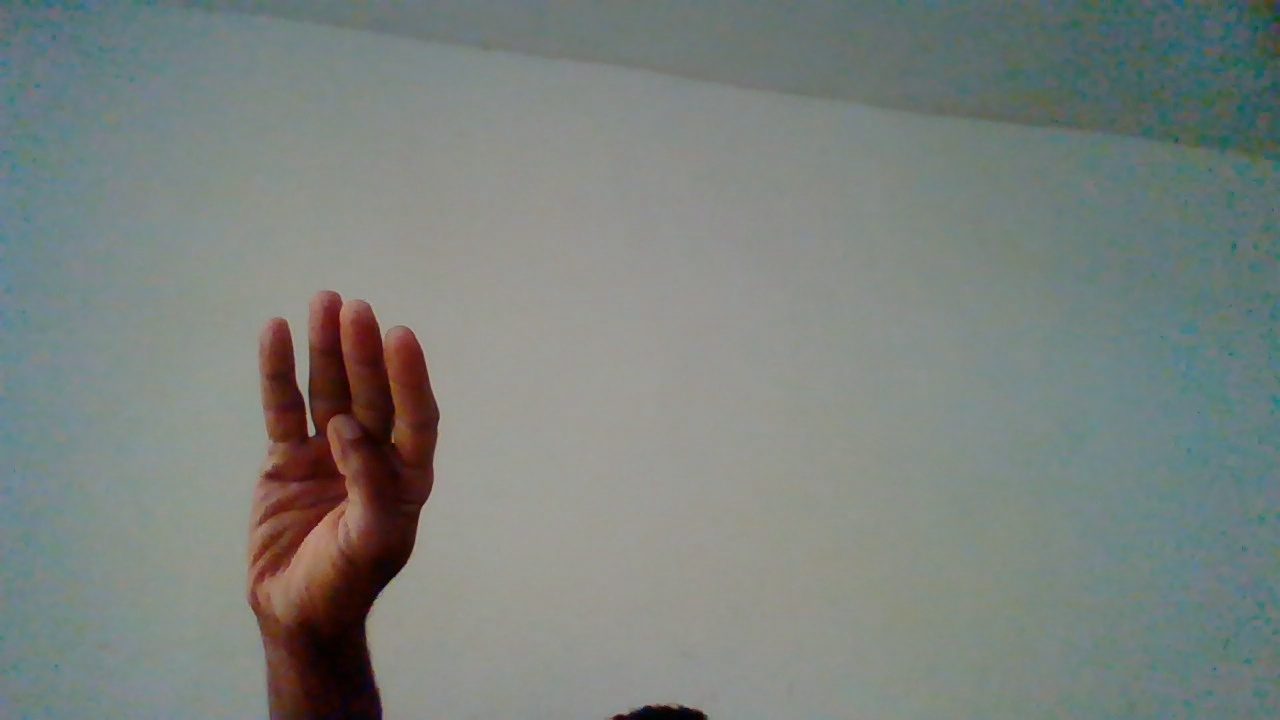me: (246, 290, 429, 703)
